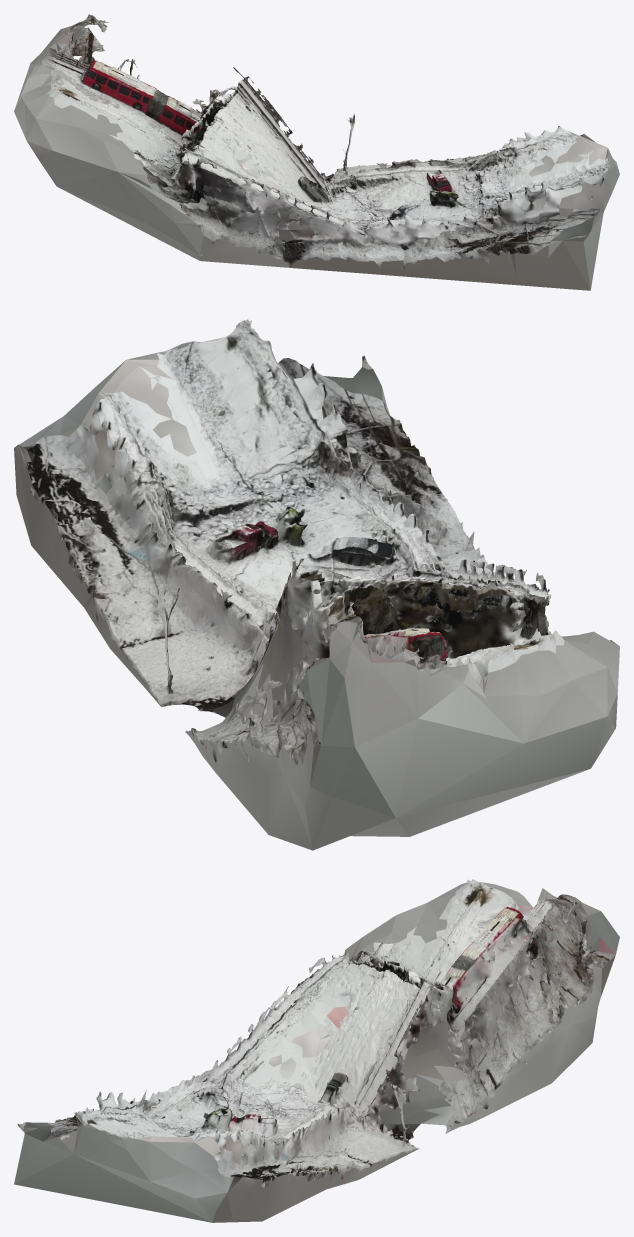
Rendered from sf-pittsburg-bridge-a696a3.glb.
3 views of the same model, one above another, from view 1: azimuth 30°, elevation 25°; view 2: azimuth 150°, elevation 25°; view 3: azimuth 270°, elevation 25° (orthographic). The views are drawn at different scales.
Visible parts, largest first — view 1: boston-bridge_boston-bridge_u1_v1_0; view 2: boston-bridge_boston-bridge_u1_v1_0; view 3: boston-bridge_boston-bridge_u1_v1_0.
Boxes of the visible parts, x1,y1,x2,y2 form: boston-bridge_boston-bridge_u1_v1_0: [14, 14, 619, 290]; boston-bridge_boston-bridge_u1_v1_0: [14, 319, 619, 850]; boston-bridge_boston-bridge_u1_v1_0: [14, 879, 619, 1222].
Bounding box in the file's own units: 42.59 × 12.96 × 44.58.
1 material, 1 textured.
